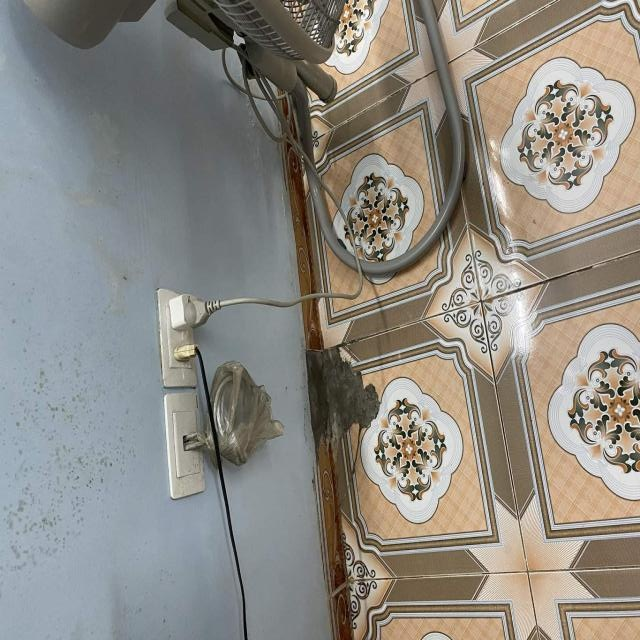outlet: (163, 391, 206, 501), (156, 289, 199, 389)
